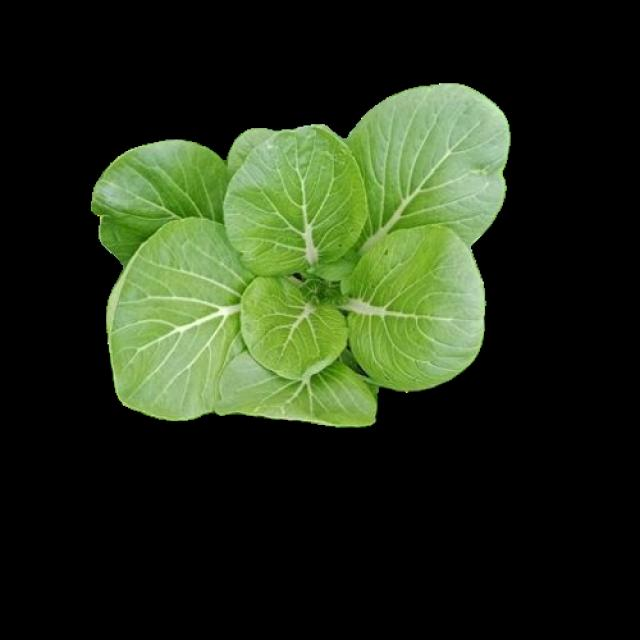mature: (93, 83, 507, 424)
unhealthy: (225, 128, 372, 276)
